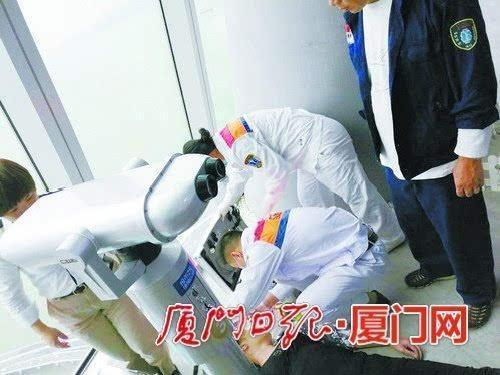Fall-Detected: (197, 277, 500, 372)
